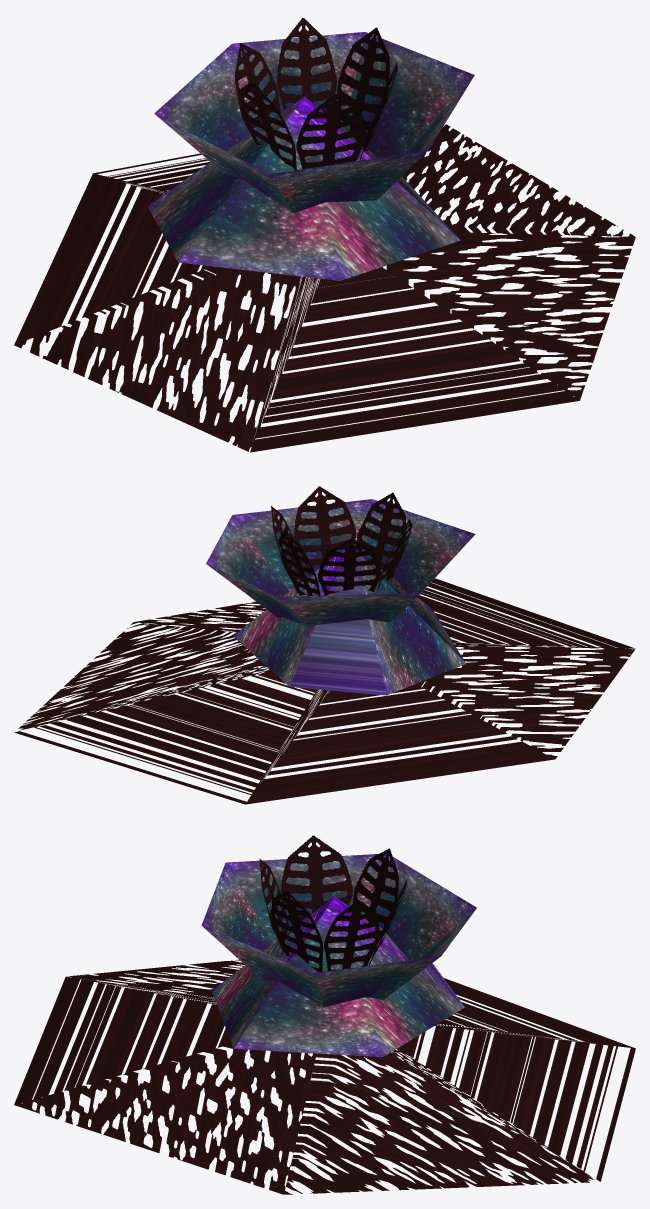
The model's file is MIRE-puff_plant.2-0.obj.
3 views of the same model, one above another, from view 1: azimuth 30°, elevation 25°; view 2: azimuth 150°, elevation 25°; view 3: azimuth 270°, elevation 25° (orthographic). The views are drawn at different scales.
Visible parts, largest first — view 1: puff_plant-red_cover__2.1-0, puff_plant-leafset_3.1-0, puff_plant-leafset_1.1-0, puff_plant-leafset_2.1-0; view 2: puff_plant-red_cover__2.1-0, puff_plant-leafset_3.1-0, puff_plant-leafset_1.1-0, puff_plant-leafset_2.1-0; view 3: puff_plant-red_cover__2.1-0, puff_plant-leafset_1.1-0, puff_plant-leafset_3.1-0, puff_plant-leafset_2.1-0.
Part boxes in pixels (x1,y1,x2,y2): puff_plant-red_cover__2.1-0: (14,124,635,452); puff_plant-leafset_3.1-0: (147,96,460,280); puff_plant-leafset_1.1-0: (154,32,474,213); puff_plant-leafset_2.1-0: (234,18,397,170); puff_plant-red_cover__2.1-0: (14,578,635,804); puff_plant-leafset_3.1-0: (233,549,465,695); puff_plant-leafset_1.1-0: (206,499,475,627); puff_plant-leafset_2.1-0: (271,486,412,595); puff_plant-red_cover__2.1-0: (14,959,635,1194); puff_plant-leafset_1.1-0: (201,854,476,1007); puff_plant-leafset_3.1-0: (211,896,464,1057); puff_plant-leafset_2.1-0: (259,835,406,972).
Size of the model in its own units: 17.37 by 6.67 by 18.49.
4 materials, 4 textured.
